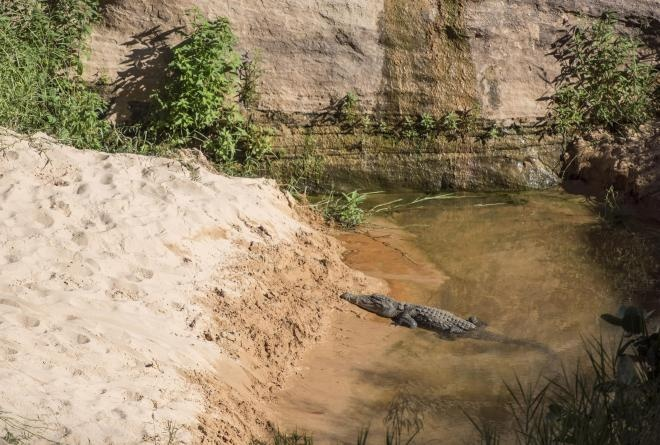crocodile: (339, 287, 564, 358)
